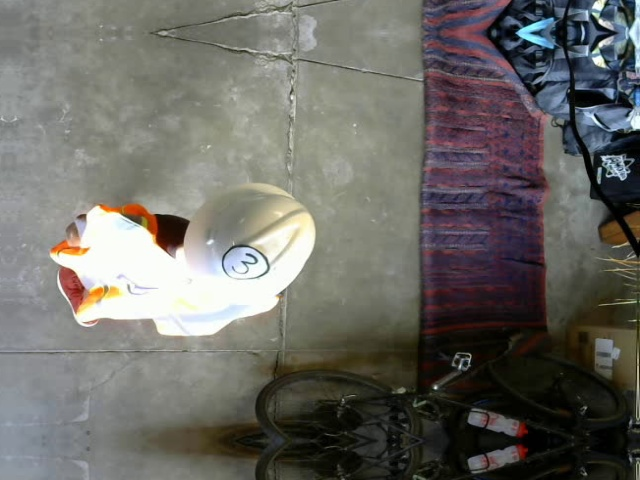three: (223, 244, 270, 280)
